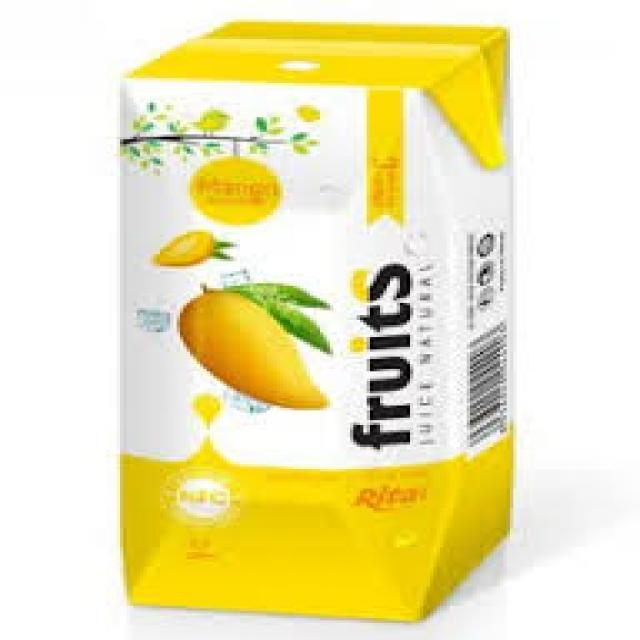non_white_jug: (92, 7, 530, 633)
